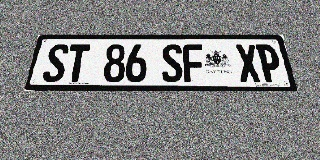6: (125, 44, 147, 82)
8: (103, 44, 127, 82)
F: (182, 44, 205, 82)
P: (255, 44, 284, 82)
S: (41, 44, 70, 82), (162, 44, 183, 82)
T: (64, 44, 91, 82)
X: (235, 44, 262, 82)
